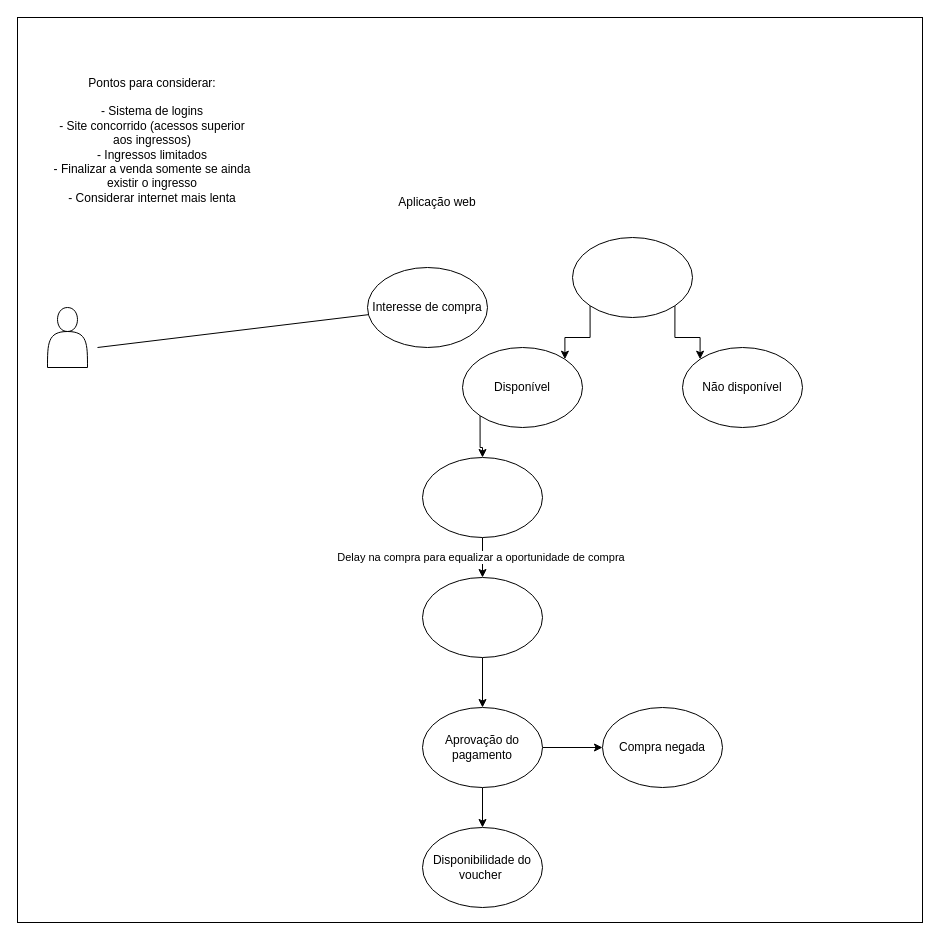
Some shapes in this 940 by 940 pixel diagram are drawn without their labels. Each missing label, with the box of its shape:
Confirmação da intenção de compra: (422, 576, 542, 658)
Disponibilidade do ingresso: (572, 236, 692, 318)
Escolha do ingresso: (422, 456, 542, 538)
